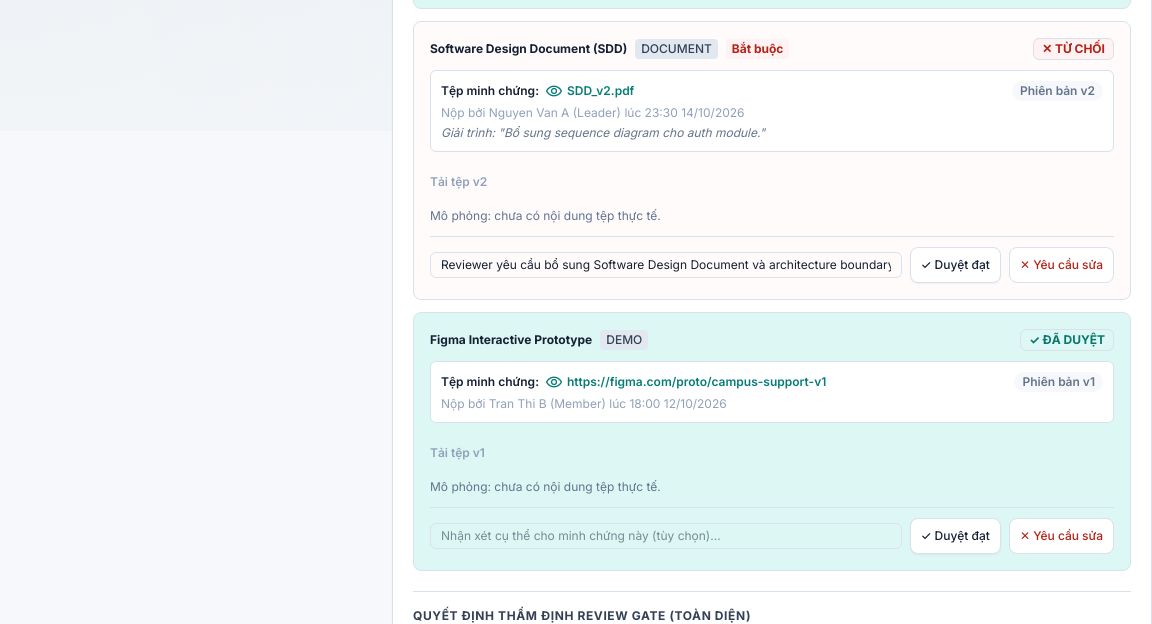
Test: AssignedGateReviewPage (Cross-Role RV-01) › allows Gate PASS after all mandatory evidence items are ACCEPTED
(page scrolled)
Note: Accept the second mandatory item (SDD)
Click the button "✓ Duyệt đạt" below "23:30 14/10/2026" at (955,265), box [910, 247, 1001, 283]
(page scrolled)
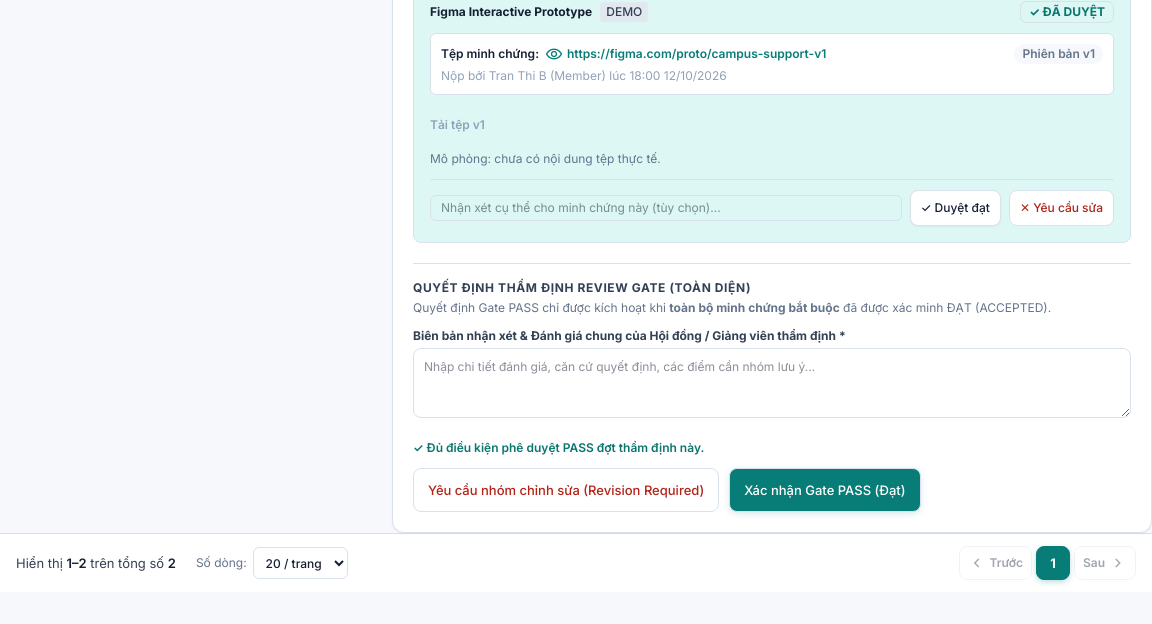
Expected: the text "✓ Đủ điều kiện phê duyệt PASS đợt thẩm định này." is shown, [413, 440, 704, 455]
Expected: the button "Xác nhận Gate PASS (Đạt)" is enabled, [729, 468, 920, 512]
Note: Fill review notes and submit PASS
Replace the text in the text box with placeholder "Nhập chi tiết đánh giá, căn cứ quyết định" with "Hồ sơ thiết kế đạt yêu cầu chuẩn mực học thuật." at (772,383), box [413, 348, 1131, 418]
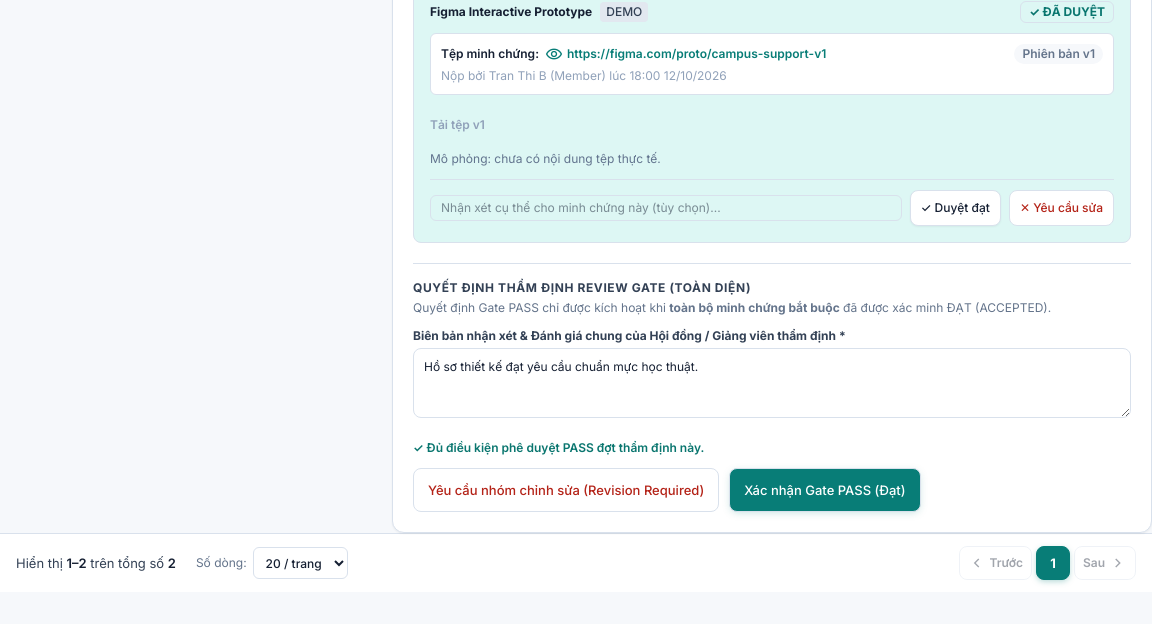
Click the button "Xác nhận Gate PASS (Đạt)" at (825,490), box [729, 468, 920, 512]
(page scrolled)
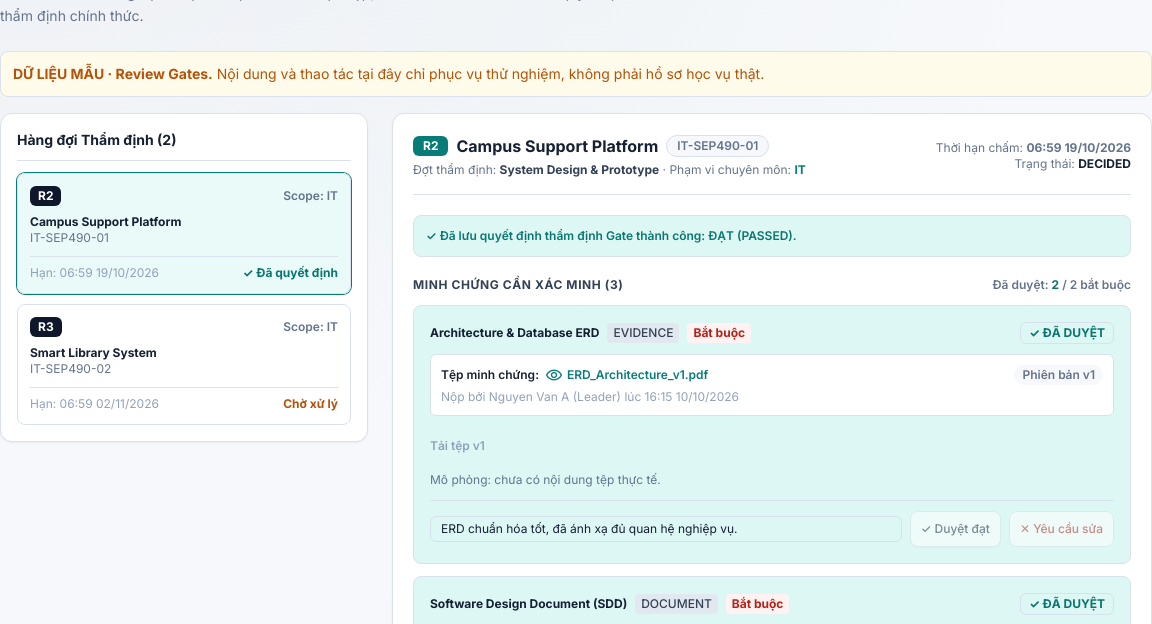
Expected: the text "✓ Đã lưu quyết định thẩm định Gate thành công: ĐẠT (PASSED)." is shown, [413, 215, 1131, 257]
